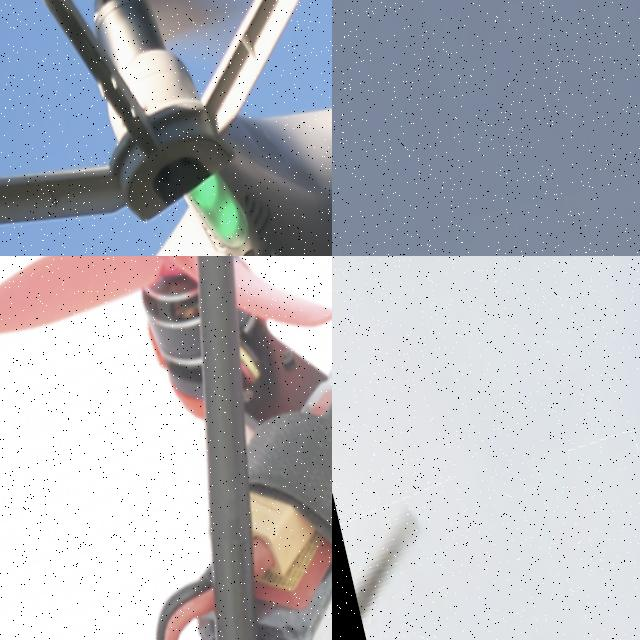drone: (0, 256, 332, 640), (0, 0, 332, 256), (335, 432, 640, 640)
